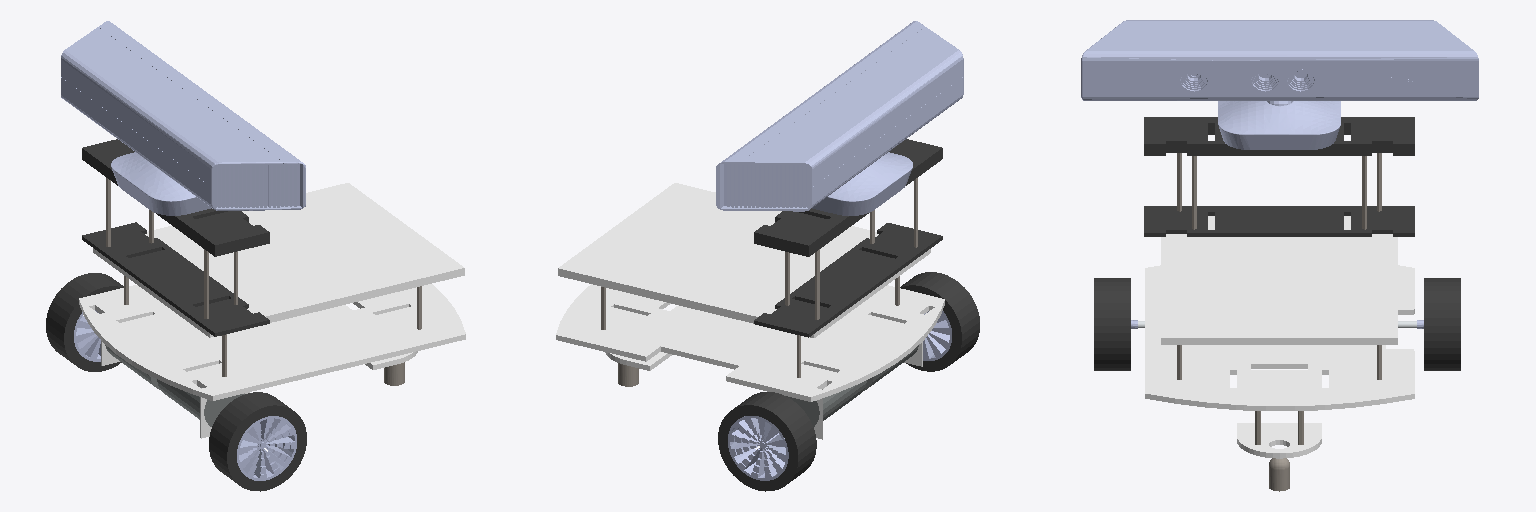
--- What the picture shows (computed from the rendered views, not written in the file) ---
3 views of the same robot in one strip: view 1: azimuth 30°, elevation 25°; view 2: azimuth 150°, elevation 25°; view 3: azimuth 270°, elevation 25° (orthographic).
Robot: navigator_description — 20 links, 19 joints (19 fixed); root link base_link; default pose: all joints at 0.
Visible links, largest first — view 1: kinect, base_link, upper_plate, black_plate_small, r_wheel, black_plate_big, l_wheel, r_rim, r_motor, 6cm_studs, l_rim, 4cm_studs; view 2: kinect, base_link, upper_plate, black_plate_small, l_wheel, black_plate_big, r_wheel, l_rim, 6cm_studs, l_motor, r_rim, castor_base (+1 smaller); view 3: kinect, upper_plate, base_link, black_plate_small, black_plate_big, l_wheel, r_wheel, castor_base, 6cm_studs, castor.
Boxes of the visible links, bbox=[...] form: kinect: bbox=[61, 21, 305, 215]; base_link: bbox=[79, 284, 465, 400]; upper_plate: bbox=[93, 183, 464, 337]; black_plate_small: bbox=[82, 222, 269, 336]; r_wheel: bbox=[209, 392, 306, 491]; black_plate_big: bbox=[82, 139, 269, 256]; l_wheel: bbox=[46, 273, 123, 371]; r_rim: bbox=[237, 416, 296, 480]; r_motor: bbox=[157, 379, 244, 426]; 6cm_studs: bbox=[106, 178, 237, 318]; l_rim: bbox=[74, 310, 100, 361]; 4cm_studs: bbox=[124, 276, 421, 376]; kinect: bbox=[716, 21, 963, 215]; base_link: bbox=[556, 284, 944, 401]; upper_plate: bbox=[558, 183, 930, 337]; black_plate_small: bbox=[754, 223, 942, 337]; l_wheel: bbox=[718, 392, 816, 491]; black_plate_big: bbox=[754, 139, 942, 256]; r_wheel: bbox=[900, 272, 979, 371]; l_rim: bbox=[728, 416, 788, 480]; 6cm_studs: bbox=[785, 178, 917, 319]; l_motor: bbox=[786, 380, 866, 426]; r_rim: bbox=[923, 311, 951, 360]; castor_base: bbox=[605, 352, 671, 370]; kinect: bbox=[1081, 20, 1478, 149]; upper_plate: bbox=[1161, 216, 1397, 344]; base_link: bbox=[1145, 265, 1414, 410]; black_plate_small: bbox=[1144, 206, 1414, 236]; black_plate_big: bbox=[1144, 117, 1414, 155]; l_wheel: bbox=[1424, 278, 1460, 370]; r_wheel: bbox=[1094, 278, 1130, 370]; castor_base: bbox=[1237, 423, 1321, 458]; 6cm_studs: bbox=[1177, 153, 1381, 229]; castor: bbox=[1269, 458, 1289, 491].
Bounding box of the posed robot: 0.2496 × 0.2793 × 0.2645 m (x, y, z).
Meshes: 20 distinct files referenced, 20 mesh visuals loaded (20 binary STL).

URDF robot description (navigator_description):
<?xml version="1.0" encoding="utf-8"?>
<!-- This URDF was automatically created by SolidWorks to URDF Exporter! Originally created by Stephen Brawner ([email redacted]) 
     Commit Version: 1.6.0-1-g15f4949  Build Version: 1.6.7594.29634
     For more information, please see http://wiki.ros.org/sw_urdf_exporter -->
<robot
  name="navigator_description">
  <link
    name="base_link">
    <inertial>
      <origin
        xyz="0.000331330958101552 -0.00249209693466514 0.00199999999940636"
        rpy="0 0 0" />
      <mass
        value="0.203521066330135" />
      <inertia
        ixx="0.000561405181425744"
        ixy="-2.2092388240442E-06"
        ixz="-1.06248896479237E-13"
        iyy="0.00097402292455394"
        iyz="7.4958553322769E-16"
        izz="0.00153488538352369" />
    </inertial>
    <visual>
      <origin
        xyz="0 0 0"
        rpy="0 0 0" />
      <geometry>
        <mesh
          filename="package://navigator_description/meshes/base_link.STL" />
      </geometry>
      <material
        name="">
        <color
          rgba="1 1 1 0.3" />
      </material>
    </visual>
    <collision>
      <origin
        xyz="0 0 0"
        rpy="0 0 0" />
      <geometry>
        <mesh
          filename="package://navigator_description/meshes/base_link.STL" />
      </geometry>
    </collision>
  </link>
  <link
    name="castor_studs">
    <inertial>
      <origin
        xyz="1.40593192670831E-34 0.0187500000000007 -1.38777878078145E-16"
        rpy="0 0 0" />
      <mass
        value="0.00600155604822617" />
      <inertia
        ixx="7.0830864610836E-07"
        ixy="-1.44213964953564E-23"
        ixz="-4.60807486799589E-24"
        iyy="1.00025934137104E-08"
        iyz="4.90435002457097E-21"
        izz="7.0830864610836E-07" />
    </inertial>
    <visual>
      <origin
        xyz="0 0 0"
        rpy="0 0 0" />
      <geometry>
        <mesh
          filename="package://navigator_description/meshes/castor_studs.STL" />
      </geometry>
      <material
        name="">
        <color
          rgba="0.647058823529412 0.619607843137255 0.588235294117647 1" />
      </material>
    </visual>
    <collision>
      <origin
        xyz="0 0 0"
        rpy="0 0 0" />
      <geometry>
        <mesh
          filename="package://navigator_description/meshes/castor_studs.STL" />
      </geometry>
    </collision>
  </link>
  <joint
    name="castor_studs_joint"
    type="fixed">
    <origin
      xyz="0.1 0 0"
      rpy="-1.5707963267949 0 1.5707963267949" />
    <parent
      link="base_link" />
    <child
      link="castor_studs" />
    <axis
      xyz="0 0 0" />
  </joint>
  <link
    name="castor_base">
    <inertial>
      <origin
        xyz="-1.34256836275951E-16 -0.002 0.0113743448101382"
        rpy="0 0 0" />
      <mass
        value="0.0116976101152847" />
      <inertia
        ixx="2.08553613210159E-06"
        ixy="-1.73718901947969E-23"
        ixz="-1.21579372686468E-20"
        iyy="5.31282511365258E-06"
        iyz="-1.80956954314582E-23"
        izz="3.25848260852508E-06" />
    </inertial>
    <visual>
      <origin
        xyz="0 0 0"
        rpy="0 0 0" />
      <geometry>
        <mesh
          filename="package://navigator_description/meshes/castor_base.STL" />
      </geometry>
      <material
        name="">
        <color
          rgba="1 1 1 0.3" />
      </material>
    </visual>
    <collision>
      <origin
        xyz="0 0 0"
        rpy="0 0 0" />
      <geometry>
        <mesh
          filename="package://navigator_description/meshes/castor_base.STL" />
      </geometry>
    </collision>
  </link>
  <joint
    name="castor_base_joint"
    type="fixed">
    <origin
      xyz="0 0.0415 0.025"
      rpy="3.1416 0 3.1416" />
    <parent
      link="castor_studs" />
    <child
      link="castor_base" />
    <axis
      xyz="0 0 0" />
  </joint>
  <link
    name="castor">
    <inertial>
      <origin
        xyz="0 0.00567732558139536 -3.25982448196712E-19"
        rpy="0 0 0" />
      <mass
        value="0.0292550998388507" />
      <inertia
        ixx="1.56333497253794E-06"
        ixy="5.31801103497374E-23"
        ixz="2.22127870157189E-23"
        iyy="7.84529930271505E-07"
        iyz="-7.94652475358875E-23"
        izz="1.56333497253794E-06" />
    </inertial>
    <visual>
      <origin
        xyz="0 0 0"
        rpy="0 0 0" />
      <geometry>
        <mesh
          filename="package://navigator_description/meshes/castor.STL" />
      </geometry>
      <material
        name="">
        <color
          rgba="0.647058823529412 0.619607843137255 0.588235294117647 1" />
      </material>
    </visual>
    <collision>
      <origin
        xyz="0 0 0"
        rpy="0 0 0" />
      <geometry>
        <mesh
          filename="package://navigator_description/meshes/castor.STL" />
      </geometry>
    </collision>
  </link>
  <joint
    name="castor_joint"
    type="fixed">
    <origin
      xyz="0 0.0125 0.025"
      rpy="0 -1.5708 0" />
    <parent
      link="castor_base" />
    <child
      link="castor" />
    <axis
      xyz="0 0 0" />
  </joint>
  <link
    name="l_clamp">
    <inertial>
      <origin
        xyz="9.71445146547012E-17 0.00634190450325341 0.0108492512203278"
        rpy="0 0 0" />
      <mass
        value="0.011316172656226" />
      <inertia
        ixx="2.68003208965716E-06"
        ixy="1.92527214301558E-20"
        ixz="-5.8102491832335E-21"
        iyy="4.10049166716251E-06"
        iyz="-5.71883700326573E-07"
        izz="2.45690436047924E-06" />
    </inertial>
    <visual>
      <origin
        xyz="0 0 0"
        rpy="0 0 0" />
      <geometry>
        <mesh
          filename="package://navigator_description/meshes/l_clamp.STL" />
      </geometry>
      <material
        name="">
        <color
          rgba="1 1 1 1" />
      </material>
    </visual>
    <collision>
      <origin
        xyz="0 0 0"
        rpy="0 0 0" />
      <geometry>
        <mesh
          filename="package://navigator_description/meshes/l_clamp.STL" />
      </geometry>
    </collision>
  </link>
  <joint
    name="l_clamp_joint"
    type="fixed">
    <origin
      xyz="-0.08 0.071 -0.02"
      rpy="0 0 -3.1416" />
    <parent
      link="base_link" />
    <child
      link="l_clamp" />
    <axis
      xyz="0 0 0" />
  </joint>
  <link
    name="l_motor">
    <inertial>
      <origin
        xyz="-1.38777878078145E-17 0.0331302521008403 0.000142857142857142"
        rpy="0 0 0" />
      <mass
        value="0.524884734191169" />
      <inertia
        ixx="0.000236474771933518"
        ixy="-1.12843720279241E-21"
        ixz="-2.55779099299215E-22"
        iyy="8.43876657673291E-05"
        iyz="-2.76462397510655E-06"
        izz="0.000235848123832493" />
    </inertial>
    <visual>
      <origin
        xyz="0 0 0"
        rpy="0 0 0" />
      <geometry>
        <mesh
          filename="package://navigator_description/meshes/l_motor.STL" />
      </geometry>
      <material
        name="">
        <color
          rgba="0.529411764705882 0.549019607843137 0.549019607843137 1" />
      </material>
    </visual>
    <collision>
      <origin
        xyz="0 0 0"
        rpy="0 0 0" />
      <geometry>
        <mesh
          filename="package://navigator_description/meshes/l_motor.STL" />
      </geometry>
    </collision>
  </link>
  <joint
    name="l_motor_joint"
    type="fixed">
    <origin
      xyz="0 0.066 0"
      rpy="3.1416 0 0" />
    <parent
      link="l_clamp" />
    <child
      link="l_motor" />
    <axis
      xyz="0 0 0" />
  </joint>
  <link
    name="l_shaft">
    <inertial>
      <origin
        xyz="1.38777878078145E-17 0.011 0"
        rpy="0 0 0" />
      <mass
        value="0.00117927534234127" />
      <inertia
        ixx="4.94067231968395E-08"
        ixy="-6.26700795993465E-41"
        ixz="-4.64539949491763E-57"
        iyy="3.68523544481647E-09"
        iyz="4.2387890683424E-25"
        izz="4.94067231968395E-08" />
    </inertial>
    <visual>
      <origin
        xyz="0 0 0"
        rpy="0 0 0" />
      <geometry>
        <mesh
          filename="package://navigator_description/meshes/l_shaft.STL" />
      </geometry>
      <material
        name="">
        <color
          rgba="0.898039215686275 0.917647058823529 0.929411764705882 1" />
      </material>
    </visual>
    <collision>
      <origin
        xyz="0 0 0"
        rpy="0 0 0" />
      <geometry>
        <mesh
          filename="package://navigator_description/meshes/l_shaft.STL" />
      </geometry>
    </collision>
  </link>
  <joint
    name="l_shaft_joint"
    type="fixed">
    <origin
      xyz="0 0.075 0.0085"
      rpy="3.1416 0 3.1416" />
    <parent
      link="l_motor" />
    <child
      link="l_shaft" />
    <axis
      xyz="0 0 0" />
  </joint>
  <link
    name="l_rim">
    <inertial>
      <origin
        xyz="0 0.0172162154619036 5.88345364891871E-06"
        rpy="0 0 0" />
      <mass
        value="0.0281408161945305" />
      <inertia
        ixx="6.48363892722368E-06"
        ixy="-6.07606410043214E-22"
        ixz="1.00691333219588E-20"
        iyy="1.00188552236876E-05"
        iyz="-1.61985412368607E-09"
        izz="6.48372715588809E-06" />
    </inertial>
    <visual>
      <origin
        xyz="0 0 0"
        rpy="0 0 0" />
      <geometry>
        <mesh
          filename="package://navigator_description/meshes/l_rim.STL" />
      </geometry>
      <material
        name="">
        <color
          rgba="0.792156862745098 0.819607843137255 0.933333333333333 1" />
      </material>
    </visual>
    <collision>
      <origin
        xyz="0 0 0"
        rpy="0 0 0" />
      <geometry>
        <mesh
          filename="package://navigator_description/meshes/l_rim.STL" />
      </geometry>
    </collision>
  </link>
  <joint
    name="l_rim_joint"
    type="fixed">
    <origin
      xyz="0 0.01681 0"
      rpy="0 0 0" />
    <parent
      link="l_shaft" />
    <child
      link="l_rim" />
    <axis
      xyz="0 0 0" />
  </joint>
  <link
    name="l_wheel">
    <inertial>
      <origin
        xyz="1.38777878078145E-17 0.013 0"
        rpy="0 0 0" />
      <mass
        value="0.0439338814375541" />
      <inertia
        ixx="2.13006101836408E-05"
        ixy="-1.34543288190583E-37"
        ixz="-1.41254875130003E-37"
        iyy="3.76513363919839E-05"
        iyz="1.42437368277971E-21"
        izz="2.13006101836408E-05" />
    </inertial>
    <visual>
      <origin
        xyz="0 0 0"
        rpy="0 0 0" />
      <geometry>
        <mesh
          filename="package://navigator_description/meshes/l_wheel.STL" />
      </geometry>
      <material
        name="">
        <color
          rgba="0.298039215686275 0.298039215686275 0.298039215686275 1" />
      </material>
    </visual>
    <collision>
      <origin
        xyz="0 0 0"
        rpy="0 0 0" />
      <geometry>
        <mesh
          filename="package://navigator_description/meshes/l_wheel.STL" />
      </geometry>
    </collision>
  </link>
  <joint
    name="l_wheel_joint"
    type="fixed">
    <origin
      xyz="0 0.005 0"
      rpy="0 0 0" />
    <parent
      link="l_rim" />
    <child
      link="l_wheel" />
    <axis
      xyz="0 0 0" />
  </joint>
  <link
    name="r_clamp">
    <inertial>
      <origin
        xyz="-1.38777878078145E-17 0.00634190450325342 0.0108492512203278"
        rpy="0 0 0" />
      <mass
        value="0.0113161726562261" />
      <inertia
        ixx="2.68003208965717E-06"
        ixy="5.2009325440862E-22"
        ixz="-2.15965352384597E-21"
        iyy="4.10049166716253E-06"
        iyz="-5.71883700326574E-07"
        izz="2.45690436047926E-06" />
    </inertial>
    <visual>
      <origin
        xyz="0 0 0"
        rpy="0 0 0" />
      <geometry>
        <mesh
          filename="package://navigator_description/meshes/r_clamp.STL" />
      </geometry>
      <material
        name="">
        <color
          rgba="1 1 1 1" />
      </material>
    </visual>
    <collision>
      <origin
        xyz="0 0 0"
        rpy="0 0 0" />
      <geometry>
        <mesh
          filename="package://navigator_description/meshes/r_clamp.STL" />
      </geometry>
    </collision>
  </link>
  <joint
    name="r_clamp_joint"
    type="fixed">
    <origin
      xyz="-0.08 -0.071 -0.02"
      rpy="0 0 0" />
    <parent
      link="base_link" />
    <child
      link="r_clamp" />
    <axis
      xyz="0 0 0" />
  </joint>
  <link
    name="r_motor">
    <inertial>
      <origin
        xyz="4.57966997657877E-16 0.0331302521008403 0.000142857142857142"
        rpy="0 0 0" />
      <mass
        value="0.524884734191168" />
      <inertia
        ixx="0.000236474771933517"
        ixy="-2.11268035841354E-18"
        ixz="-3.84490522370768E-20"
        iyy="8.43876657673291E-05"
        iyz="-2.76462397510654E-06"
        izz="0.000235848123832493" />
    </inertial>
    <visual>
      <origin
        xyz="0 0 0"
        rpy="0 0 0" />
      <geometry>
        <mesh
          filename="package://navigator_description/meshes/r_motor.STL" />
      </geometry>
      <material
        name="">
        <color
          rgba="0.529411764705882 0.549019607843137 0.549019607843137 1" />
      </material>
    </visual>
    <collision>
      <origin
        xyz="0 0 0"
        rpy="0 0 0" />
      <geometry>
        <mesh
          filename="package://navigator_description/meshes/r_motor.STL" />
      </geometry>
    </collision>
  </link>
  <joint
    name="r_motor_joint"
    type="fixed">
    <origin
      xyz="0 0.066 0"
      rpy="3.1416 0 0" />
    <parent
      link="r_clamp" />
    <child
      link="r_motor" />
    <axis
      xyz="0 0 0" />
  </joint>
  <link
    name="r_shaft">
    <inertial>
      <origin
        xyz="0 0.011 3.46944695195361E-18"
        rpy="0 0 0" />
      <mass
        value="0.00117927534234127" />
      <inertia
        ixx="4.94067231968394E-08"
        ixy="-6.26700795993465E-41"
        ixz="1.44139777273402E-56"
        iyy="3.68523544481647E-09"
        iyz="-4.23878906834168E-25"
        izz="4.94067231968394E-08" />
    </inertial>
    <visual>
      <origin
        xyz="0 0 0"
        rpy="0 0 0" />
      <geometry>
        <mesh
          filename="package://navigator_description/meshes/r_shaft.STL" />
      </geometry>
      <material
        name="">
        <color
          rgba="0.898039215686275 0.917647058823529 0.929411764705882 1" />
      </material>
    </visual>
    <collision>
      <origin
        xyz="0 0 0"
        rpy="0 0 0" />
      <geometry>
        <mesh
          filename="package://navigator_description/meshes/r_shaft.STL" />
      </geometry>
    </collision>
  </link>
  <joint
    name="r_shaft_joint"
    type="fixed">
    <origin
      xyz="0 0.075 0.0085"
      rpy="0 0 0" />
    <parent
      link="r_motor" />
    <child
      link="r_shaft" />
    <axis
      xyz="0 0 0" />
  </joint>
  <link
    name="r_rim">
    <inertial>
      <origin
        xyz="0 0.0172162154619083 5.8834536475344E-06"
        rpy="0 0 0" />
      <mass
        value="0.0281408161945305" />
      <inertia
        ixx="6.48363892722368E-06"
        ixy="3.74333125989268E-23"
        ixz="1.09951778639784E-20"
        iyy="1.00188552236876E-05"
        iyz="-1.6198541236863E-09"
        izz="6.48372715588808E-06" />
    </inertial>
    <visual>
      <origin
        xyz="0 0 0"
        rpy="0 0 0" />
      <geometry>
        <mesh
          filename="package://navigator_description/meshes/r_rim.STL" />
      </geometry>
      <material
        name="">
        <color
          rgba="0.792156862745098 0.819607843137255 0.933333333333333 1" />
      </material>
    </visual>
    <collision>
      <origin
        xyz="0 0 0"
        rpy="0 0 0" />
      <geometry>
        <mesh
          filename="package://navigator_description/meshes/r_rim.STL" />
      </geometry>
    </collision>
  </link>
  <joint
    name="r_rim_joint"
    type="fixed">
    <origin
      xyz="0 0.019251 0"
      rpy="0 0 0" />
    <parent
      link="r_shaft" />
    <child
      link="r_rim" />
    <axis
      xyz="0 0 0" />
  </joint>
  <link
    name="r_wheel">
    <inertial>
      <origin
        xyz="1.38777878078145E-17 0.0130000000000043 -6.93889390390723E-18"
        rpy="0 0 0" />
      <mass
        value="0.0439338814375541" />
      <inertia
        ixx="2.13006101836408E-05"
        ixy="-1.34543288190583E-37"
        ixz="-1.41254875130006E-37"
        iyy="3.76513363919839E-05"
        iyz="-6.59826345912791E-22"
        izz="2.13006101836408E-05" />
    </inertial>
    <visual>
      <origin
        xyz="0 0 0"
        rpy="0 0 0" />
      <geometry>
        <mesh
          filename="package://navigator_description/meshes/r_wheel.STL" />
      </geometry>
      <material
        name="">
        <color
          rgba="0.298039215686275 0.298039215686275 0.298039215686275 1" />
      </material>
    </visual>
    <collision>
      <origin
        xyz="0 0 0"
        rpy="0 0 0" />
      <geometry>
        <mesh
          filename="package://navigator_description/meshes/r_wheel.STL" />
      </geometry>
    </collision>
  </link>
  <joint
    name="r_wheel_joint"
    type="fixed">
    <origin
      xyz="0 0.005 0"
      rpy="0 0 0" />
    <parent
      link="r_rim" />
    <child
      link="r_wheel" />
    <axis
      xyz="0 0 0" />
  </joint>
  <link
    name="4cm_studs">
    <inertial>
      <origin
        xyz="-0.01 0.024 2.11703333380841E-18"
        rpy="0 0 0" />
      <mass
        value="0.0128033195695494" />
      <inertia
        ixx="1.71777870891455E-06"
        ixy="-5.1189022638089E-23"
        ixz="9.56577884555289E-25"
        iyy="2.13388659492488E-08"
        iyz="-2.66488584346703E-24"
        izz="1.71777870891455E-06" />
    </inertial>
    <visual>
      <origin
        xyz="0 0 0"
        rpy="0 0 0" />
      <geometry>
        <mesh
          filename="package://navigator_description/meshes/4cm_studs.STL" />
      </geometry>
      <material
        name="">
        <color
          rgba="0.647058823529412 0.619607843137255 0.588235294117647 1" />
      </material>
    </visual>
    <collision>
      <origin
        xyz="0 0 0"
        rpy="0 0 0" />
      <geometry>
        <mesh
          filename="package://navigator_description/meshes/4cm_studs.STL" />
      </geometry>
    </collision>
  </link>
  <joint
    name="4cm_studs_joint"
    type="fixed">
    <origin
      xyz="0.01 0 0"
      rpy="1.5708 0 0" />
    <parent
      link="base_link" />
    <child
      link="4cm_studs" />
    <axis
      xyz="0 0 0" />
  </joint>
  <link
    name="upper_plate">
    <inertial>
      <origin
        xyz="0.00500000000000002 0.003 1.79274767887587E-17"
        rpy="0 0 0" />
      <mass
        value="0.0711144" />
      <inertia
        ixx="0.0001635157104"
        ixy="-1.58395161136553E-22"
        ixz="-4.14707330975705E-21"
        iyy="0.0004246477872"
        iyz="-2.30392961653169E-22"
        izz="0.0002615587632" />
    </inertial>
    <visual>
      <origin
        xyz="0 0 0"
        rpy="0 0 0" />
      <geometry>
        <mesh
          filename="package://navigator_description/meshes/upper_plate.STL" />
      </geometry>
      <material
        name="">
        <color
          rgba="1 1 1 1" />
      </material>
    </visual>
    <collision>
      <origin
        xyz="0 0 0"
        rpy="0 0 0" />
      <geometry>
        <mesh
          filename="package://navigator_description/meshes/upper_plate.STL" />
      </geometry>
    </collision>
  </link>
  <joint
    name="upper_plate_joint"
    type="fixed">
    <origin
      xyz="-0.01 0.044 0"
      rpy="0 0 0" />
    <parent
      link="4cm_studs" />
    <child
      link="upper_plate" />
    <axis
      xyz="0 0 0" />
  </joint>
  <link
    name="black_plate_small">
    <inertial>
      <origin
        xyz="0.180462962962963 0.0615 7.58299717932545E-17"
        rpy="0 0 0" />
      <mass
        value="0.031833" />
      <inertia
        ixx="9.53361997500001E-05"
        ixy="1.67214027822812E-23"
        ixz="-6.20286143170321E-19"
        iyy="0.000100642933333333"
        iyz="1.11468833558763E-20"
        izz="5.35448308333334E-06" />
    </inertial>
    <visual>
      <origin
        xyz="0 0 0"
        rpy="0 0 0" />
      <geometry>
        <mesh
          filename="package://navigator_description/meshes/black_plate_small.STL" />
      </geometry>
      <material
        name="">
        <color
          rgba="0.298039215686275 0.298039215686275 0.298039215686275 1" />
      </material>
    </visual>
    <collision>
      <origin
        xyz="0 0 0"
        rpy="0 0 0" />
      <geometry>
        <mesh
          filename="package://navigator_description/meshes/black_plate_small.STL" />
      </geometry>
    </collision>
  </link>
  <joint
    name="black_plate_small_joint"
    type="fixed">
    <origin
      xyz="0.1 -0.054 0"
      rpy="3.1416 0 3.1416" />
    <parent
      link="upper_plate" />
    <child
      link="black_plate_small" />
    <axis
      xyz="0 0 0" />
  </joint>
  <link
    name="6cm_studs">
    <inertial>
      <origin
        xyz="0.0799999999999998 0.029 -5.66636286146329E-16"
        rpy="0 0 0" />
      <mass
        value="0.0192049793543236" />
      <inertia
        ixx="5.77749795575901E-06"
        ixy="-6.87640062811702E-22"
        ixz="2.43137811574486E-23"
        iyy="3.20082989238689E-08"
        iyz="-7.05209940245032E-22"
        izz="5.77749795575901E-06" />
    </inertial>
    <visual>
      <origin
        xyz="0 0 0"
        rpy="0 0 0" />
      <geometry>
        <mesh
          filename="package://navigator_description/meshes/6cm_studs.STL" />
      </geometry>
      <material
        name="">
        <color
          rgba="0.647058823529412 0.619607843137255 0.588235294117647 1" />
      </material>
    </visual>
    <collision>
      <origin
        xyz="0 0 0"
        rpy="0 0 0" />
      <geometry>
        <mesh
          filename="package://navigator_description/meshes/6cm_studs.STL" />
      </geometry>
    </collision>
  </link>
  <joint
    name="6cm_studs_joint"
    type="fixed">
    <origin
      xyz="0.1 0.064 0"
      rpy="0 0 0" />
    <parent
      link="black_plate_small" />
    <child
      link="6cm_studs" />
    <axis
      xyz="0 0 0" />
  </joint>
  <link
    name="black_plate_big">
    <inertial>
      <origin
        xyz="0.000462962962962971 0.00449999999999999 4.98495244143264E-17"
        rpy="0 0 0" />
      <mass
        value="0.095499" />
      <inertia
        ixx="0.00028658159325"
        ixy="1.56718711928635E-22"
        ixz="-1.88117843623798E-18"
        iyy="0.0003019288"
        iyz="3.43255679068408E-20"
        izz="1.663644325E-05" />
    </inertial>
    <visual>
      <origin
        xyz="0 0 0"
        rpy="0 0 0" />
      <geometry>
        <mesh
          filename="package://navigator_description/meshes/black_plate_big.STL" />
      </geometry>
      <material
        name="">
        <color
          rgba="0.298039215686275 0.298039215686275 0.298039215686275 1" />
      </material>
    </visual>
    <collision>
      <origin
        xyz="0 0 0"
        rpy="0 0 0" />
      <geometry>
        <mesh
          filename="package://navigator_description/meshes/black_plate_big.STL" />
      </geometry>
    </collision>
  </link>
  <joint
    name="black_plate_big_joint"
    type="fixed">
    <origin
      xyz="0.08 0.059 0"
      rpy="0 0 0" />
    <parent
      link="6cm_studs" />
    <child
      link="black_plate_big" />
    <axis
      xyz="0 0 0" />
  </joint>
  <link
    name="kinect">
    <inertial>
      <origin
        xyz="0.00122183168080986 0.0321387211137394 0.000160728341865213"
        rpy="0 0 0" />
      <mass
        value="0.645269768162058" />
      <inertia
        ixx="0.00284310577482197"
        ixy="-1.54624658802776E-07"
        ixz="2.56831959229167E-06"
        iyy="0.00296397070653795"
        iyz="-1.09854792416786E-08"
        izz="0.000263778627605205" />
    </inertial>
    <visual>
      <origin
        xyz="0 0 0"
        rpy="0 0 0" />
      <geometry>
        <mesh
          filename="package://navigator_description/meshes/kinect.STL" />
      </geometry>
      <material
        name="">
        <color
          rgba="0.792156862745098 0.819607843137255 0.933333333333333 1" />
      </material>
    </visual>
    <collision>
      <origin
        xyz="0 0 0"
        rpy="0 0 0" />
      <geometry>
        <mesh
          filename="package://navigator_description/meshes/kinect.STL" />
      </geometry>
    </collision>
  </link>
  <joint
    name="kinect_base"
    type="fixed">
    <origin
      xyz="0 0.023 0"
      rpy="0 0 0" />
    <parent
      link="black_plate_big" />
    <child
      link="kinect" />
    <axis
      xyz="0 0 0" />
  </joint>
</robot>
